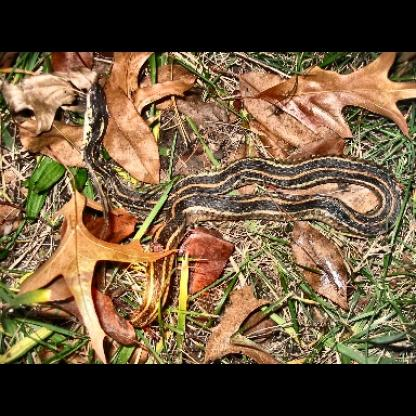Snake: (75, 76, 401, 238)
